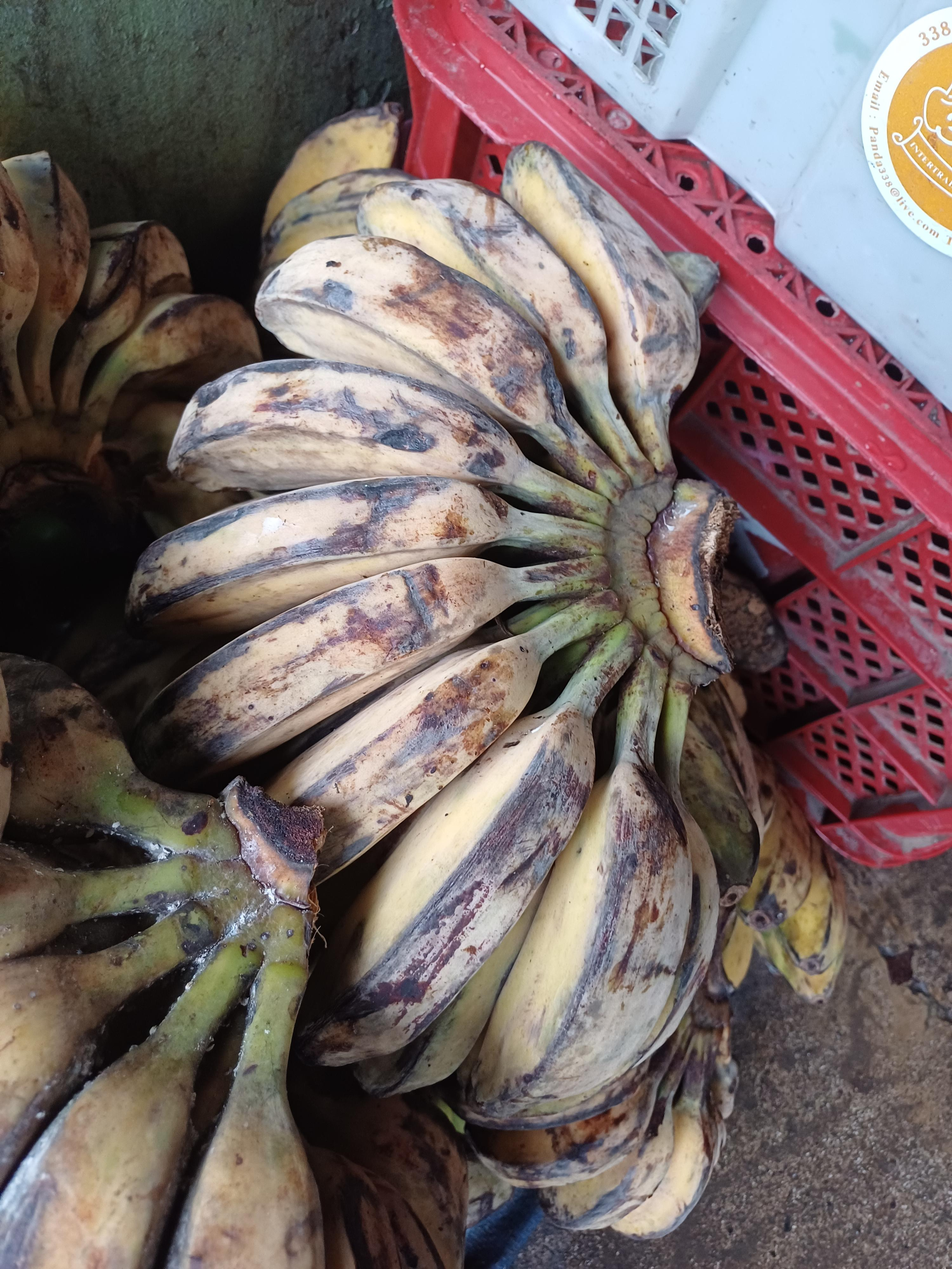ripe: (128, 144, 719, 1128), (0, 657, 324, 1269), (470, 1079, 710, 1239), (721, 751, 846, 1001)
underripe: (0, 152, 263, 391)
